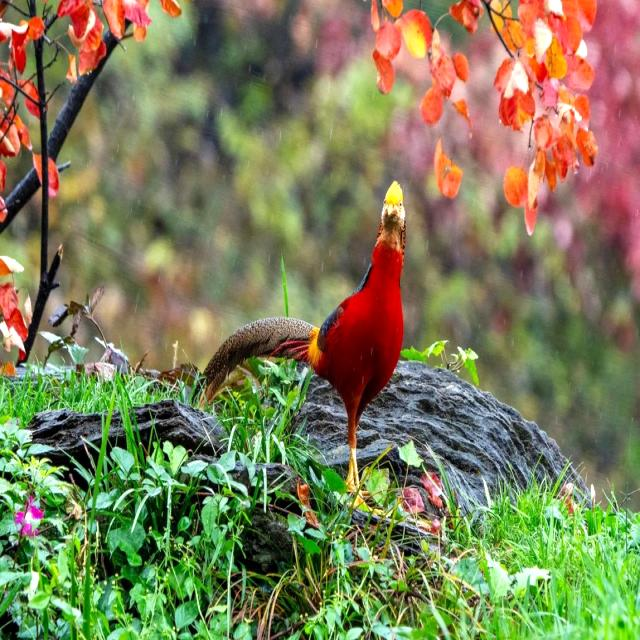Chrysolophus pictus feather: (204, 317, 319, 405)
